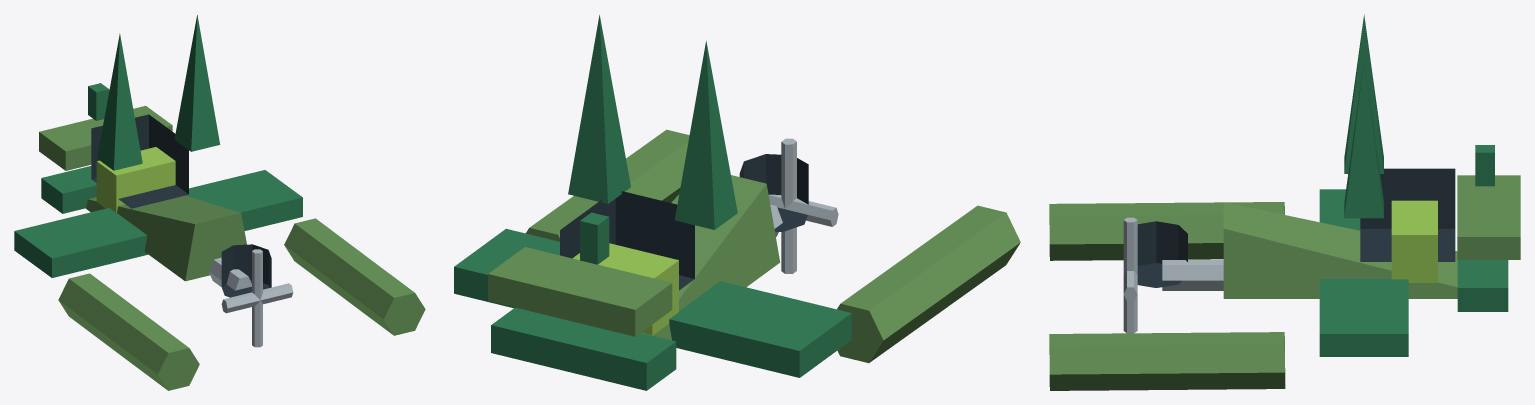
File: gunship.obj
3 views of the same model, side by side, from view 1: azimuth 30°, elevation 25°; view 2: azimuth 150°, elevation 25°; view 3: azimuth 270°, elevation 25° (orthographic). The views are drawn at different scales.
Parts seen in each view (by area): view 1: air; view 2: air; view 3: air.
Boxes of the visible parts, x1=… form: air: x1=14, y1=15, x2=425, y2=390; air: x1=454, y1=15, x2=1020, y2=390; air: x1=1049, y1=14, x2=1520, y2=390.
Bounding box in the file's own units: 1.66 × 1.48 × 2.14.
